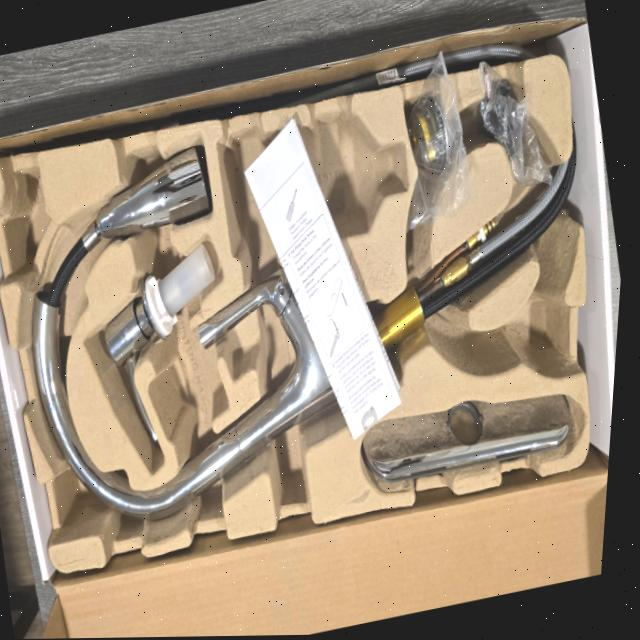1o: (33, 149, 575, 521)
2: (102, 244, 215, 445)
3m: (218, 115, 406, 256)
4: (362, 395, 569, 480)
5m: (509, 297, 558, 364)
6: (407, 51, 475, 230)
7: (477, 62, 554, 183)
8: (242, 117, 402, 443)
